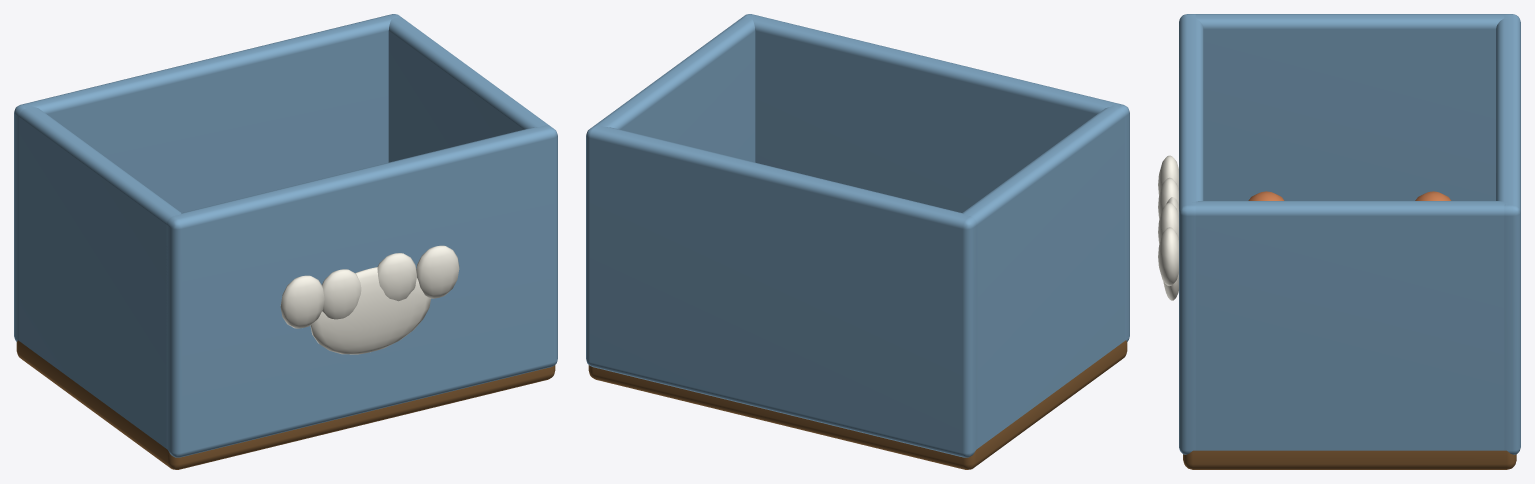
File: dog_toy_box.glb
3 views of the same model, side by side, from view 1: azimuth 30°, elevation 25°; view 2: azimuth 150°, elevation 25°; view 3: azimuth 270°, elevation 25° (orthographic). The views are drawn at different scales.
Parts seen in each view (by area): view 1: Box front, Box back, Box left, Box right, Box floor, Paw pad, Paw toe.003, Paw toe, Paw toe.002, Paw toe.001; view 2: Box back, Box front, Box left, Box right, Box floor; view 3: Box right, Box left, Box back, Box front, Box floor, Paw toe, Paw toe.001, Paw toe.003, Paw toe.002.
Part boxes in pixels (left/top/right/bottom): Box front: left=166, top=125, right=557, bottom=457; Box back: left=14, top=14, right=401, bottom=341; Box left: left=19, top=105, right=181, bottom=448; Box right: left=388, top=17, right=548, bottom=162; Box floor: left=16, top=340, right=555, bottom=469; Paw pad: left=310, top=267, right=430, bottom=354; Paw toe.003: left=280, top=275, right=324, bottom=328; Paw toe: left=416, top=245, right=459, bottom=298; Paw toe.002: left=322, top=269, right=361, bottom=319; Paw toe.001: left=377, top=253, right=416, bottom=301; Box back: left=586, top=125, right=977, bottom=457; Box front: left=742, top=14, right=1129, bottom=341; Box left: left=962, top=105, right=1124, bottom=448; Box right: left=595, top=17, right=755, bottom=162; Box floor: left=588, top=340, right=1127, bottom=469; Box right: left=1191, top=201, right=1507, bottom=450; Box left: left=1195, top=14, right=1506, bottom=200; Box back: left=1496, top=14, right=1520, bottom=454; Box front: left=1179, top=14, right=1203, bottom=454; Box floor: left=1183, top=450, right=1516, bottom=469; Paw toe: left=1158, top=227, right=1178, bottom=285; Paw toe.001: left=1158, top=202, right=1178, bottom=243; Paw toe.003: left=1158, top=155, right=1178, bottom=195; Paw toe.002: left=1158, top=177, right=1178, bottom=219.
Size of the model in its own units: 0.56 by 0.35 by 0.435.
